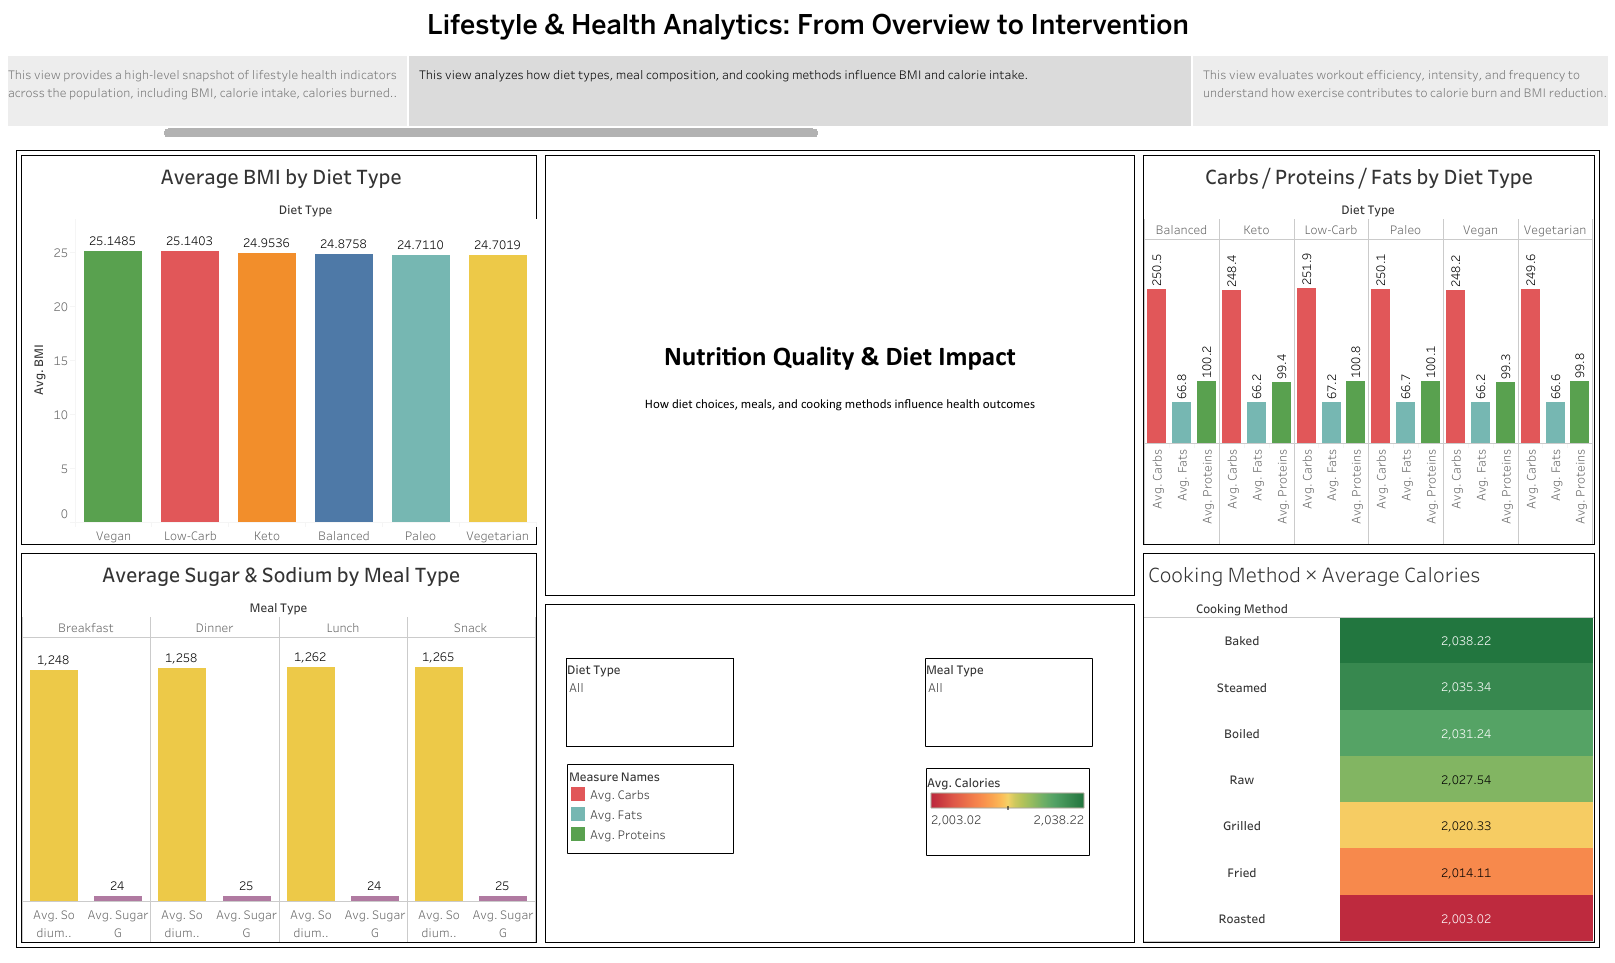

The dashboard page shown, as its layout file describes it:
{"tool":"tableau","page":{"name":"Nutrition Quality & Diet Impact (Dashboard)","canvas":[1000,1000],"units":"permille","ordinal":3},"visuals":[{"type":"worksheet","title":" Average BMI by Diet Type","mark":"Automatic","rows":["BMI"],"cols":["diet_type"],"box":[5.6,11.1,327.7,488.9]},{"type":"text","box":[333.3,11.1,373.3,551.6]},{"type":"worksheet","title":"Carbs / Proteins / Fats by Diet Type","mark":"Automatic","cols":["diet_type"],"box":[706.6,11.1,287.8,488.9]},{"type":"worksheet","title":" Average Sugar & Sodium by Meal Type","mark":"Automatic","cols":["meal_type"],"box":[5.6,500,327.7,488.9]},{"type":"worksheet","title":"Cooking Method × Average Calories","mark":"Square","rows":["cooking_method"],"box":[706.6,500,287.8,488.9]},{"type":"text","box":[333.3,562.6,373.3,426.3]},{"type":"filter","title":"Cooking Method × Average Calories","param":"[federated.1k2i0ly026o70u16u3tmm0684ppk].[none:diet_type:nk]","box":[348.8,634.2,105,109.6]},{"type":"filter","title":"Cooking Method × Average Calories","param":"[federated.1k2i0ly026o70u16u3tmm0684ppk].[none:meal_type:nk]","box":[573.1,634.2,105,109.6]},{"type":"legend","title":"Carbs / Proteins / Fats by Diet Type","param":"[federated.1k2i0ly026o70u16u3tmm0684ppk].[:Measure Names]","box":[349.4,763.6,104.4,110.8]},{"type":"legend","title":"Cooking Method × Average Calories","param":"[federated.1k2i0ly026o70u16u3tmm0684ppk].[avg:Calories:qk]","box":[573.8,768.5,102.5,108.4]}]}

Visuals, with their boxes on the dashboard's canvas, which has no fixed pixel size, in thousandths of its width and height (x1, y1, x2, y2). These are canvas units, not pixel positions in the 1615x963 screenshot, which may show the page scaled, cropped or inside an application window:
" Average BMI by Diet Type" worksheet: left=6, top=11, right=333, bottom=500
text: left=333, top=11, right=707, bottom=563
"Carbs / Proteins / Fats by Diet Type" worksheet: left=707, top=11, right=994, bottom=500
" Average Sugar & Sodium by Meal Type" worksheet: left=6, top=500, right=333, bottom=989
"Cooking Method × Average Calories" worksheet (Square marks): left=707, top=500, right=994, bottom=989
text: left=333, top=563, right=707, bottom=989
"Cooking Method × Average Calories" filter: left=349, top=634, right=454, bottom=744
"Cooking Method × Average Calories" filter: left=573, top=634, right=678, bottom=744
"Carbs / Proteins / Fats by Diet Type" legend: left=349, top=764, right=454, bottom=874
"Cooking Method × Average Calories" legend: left=574, top=768, right=676, bottom=877
